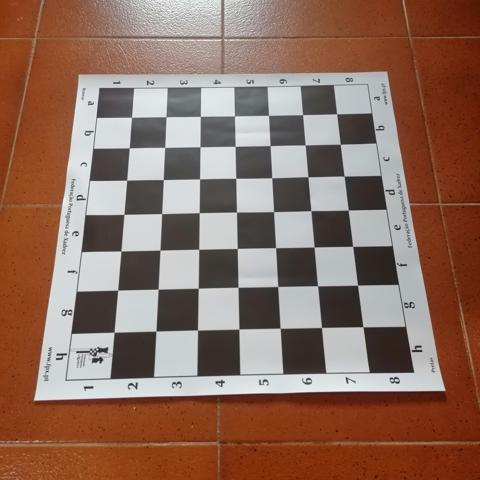xcorner: (330, 105, 345, 120), (159, 108, 174, 123), (228, 137, 243, 152), (122, 139, 137, 154), (192, 170, 207, 185), (154, 205, 169, 220), (191, 241, 206, 256), (152, 242, 167, 257), (271, 279, 286, 294), (262, 106, 276, 121), (193, 108, 208, 122), (125, 109, 140, 123), (334, 135, 348, 150), (263, 137, 278, 151), (302, 168, 316, 183), (265, 169, 280, 183), (342, 202, 357, 216), (267, 203, 281, 218), (229, 204, 244, 218), (308, 239, 322, 254), (230, 241, 245, 255), (113, 243, 128, 257), (311, 279, 326, 293), (231, 280, 245, 295), (150, 282, 165, 296), (110, 282, 124, 297), (315, 321, 330, 335), (273, 322, 288, 336), (232, 322, 246, 337), (190, 323, 204, 338), (148, 324, 163, 338), (106, 325, 121, 339), (296, 106, 310, 120), (228, 107, 242, 121), (299, 136, 313, 150), (193, 138, 207, 152), (158, 139, 172, 153), (338, 168, 352, 182), (229, 170, 243, 184), (156, 171, 170, 185), (120, 172, 134, 186), (305, 203, 319, 217), (192, 205, 206, 219), (117, 206, 131, 220), (347, 239, 361, 253), (269, 240, 283, 254), (352, 278, 366, 292), (191, 281, 205, 295), (357, 320, 371, 334)
